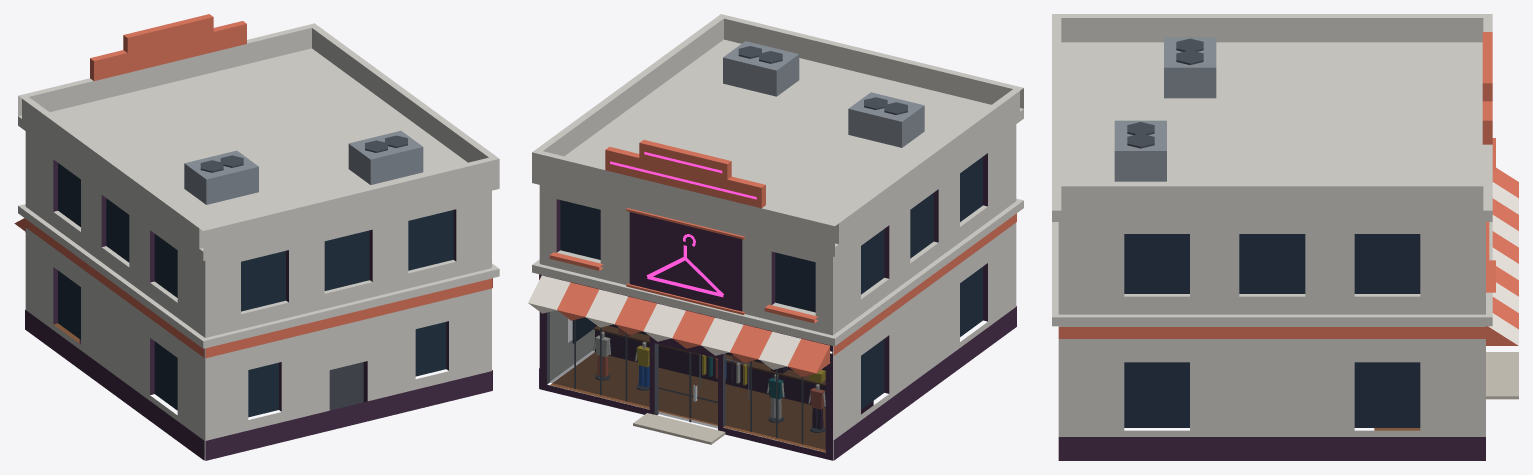
File: clothing_store.glb
The picture shows the model from 3 angles, left to right: view 1: azimuth 30°, elevation 25°; view 2: azimuth 150°, elevation 25°; view 3: azimuth 270°, elevation 25°; orthographic projection. The views are drawn at different scales.
Visible parts, largest first — view 1: Body; view 2: Body; view 3: Body.
Boxes of the visible parts, left/top/right/bottom form: Body: left=14, top=14, right=499, bottom=460; Body: left=528, top=14, right=1023, bottom=460; Body: left=1052, top=14, right=1518, bottom=460.
Size of what is drawn, in the model's own units: 12.4 by 10.7 by 14.2.
